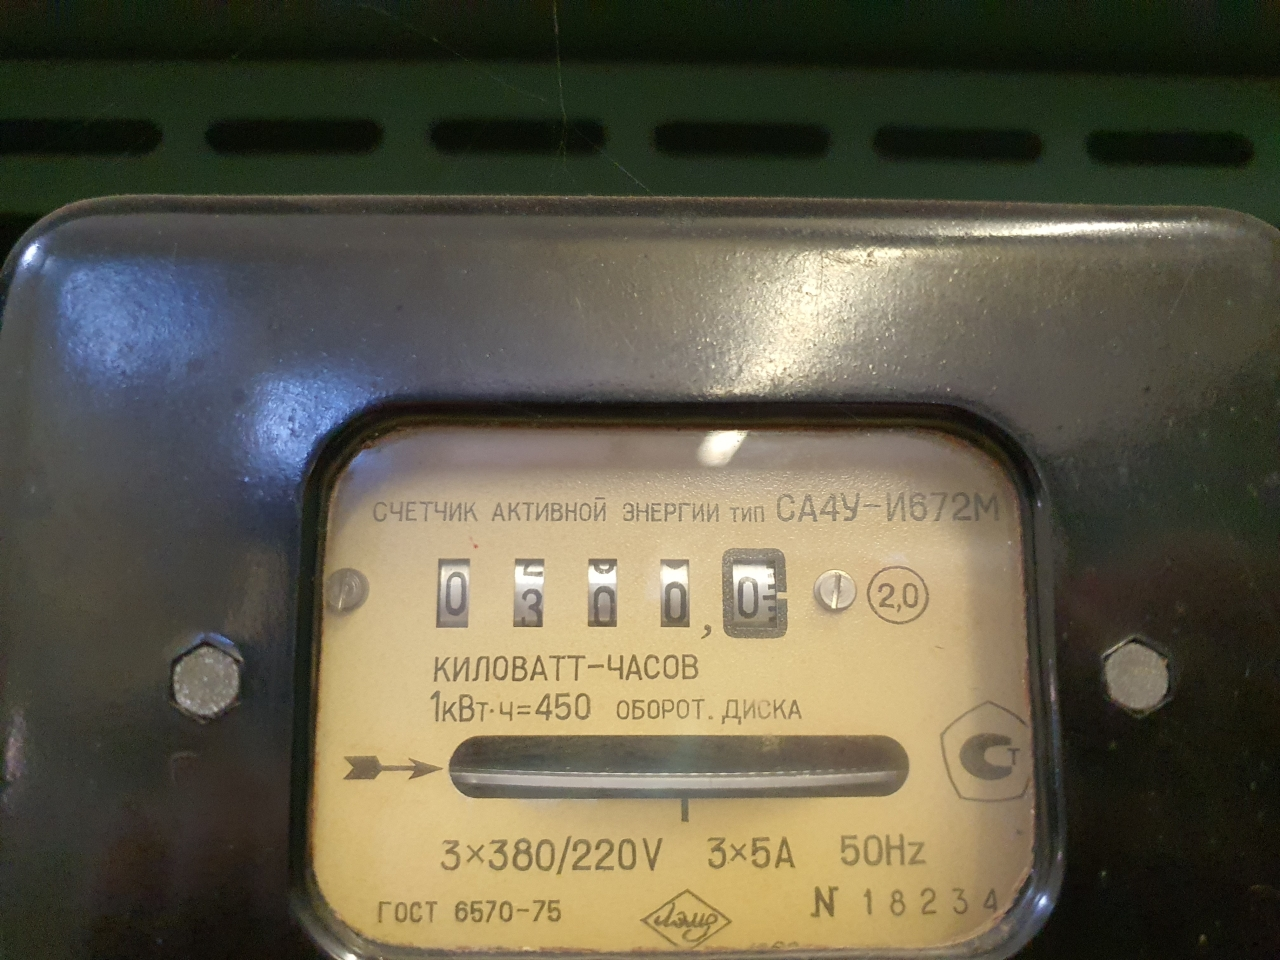0: (734, 573, 761, 622), (589, 581, 616, 629), (660, 580, 688, 626), (443, 567, 468, 618)
3: (517, 585, 545, 628)
screen: (415, 541, 796, 647)
